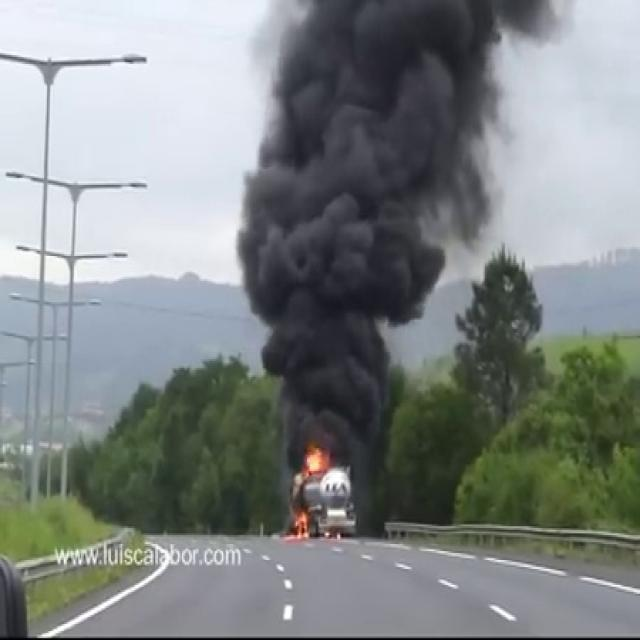Fire: (299, 440, 332, 481), (290, 503, 312, 544)
Smoke: (228, 0, 590, 473)
